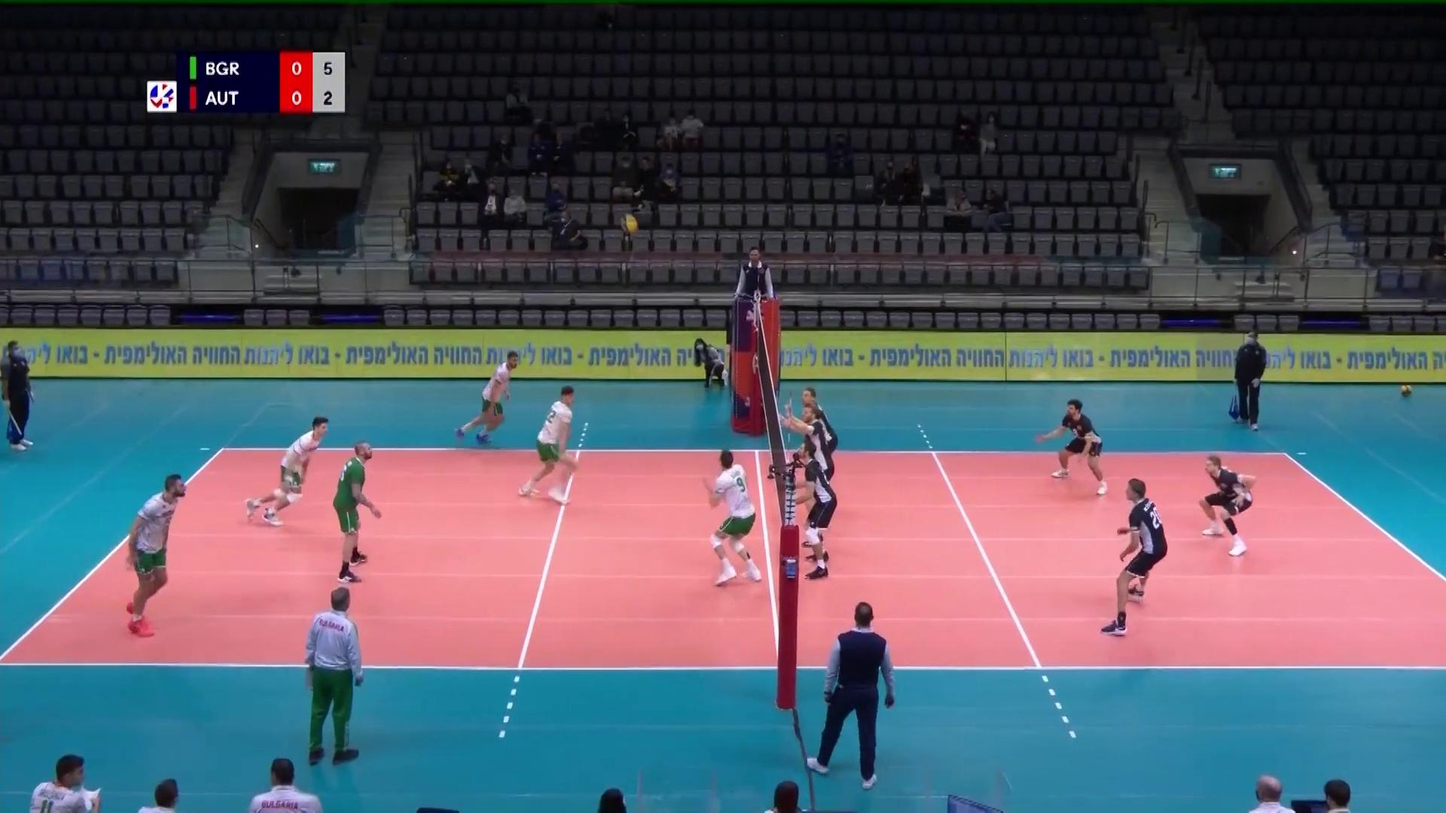ball: (618, 212, 640, 235)
